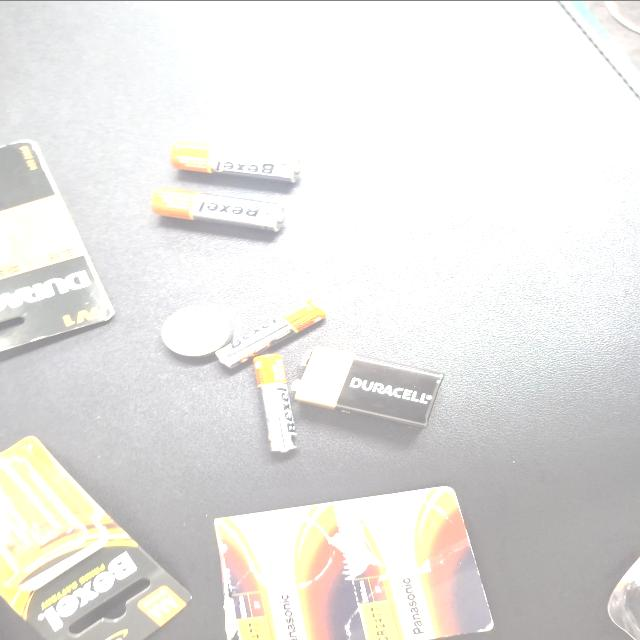9V: (459, 308, 569, 422)
AA: (249, 427, 307, 527), (187, 414, 242, 512)
AAA: (398, 396, 488, 478), (470, 418, 601, 450)
COIN: (406, 468, 474, 519)
